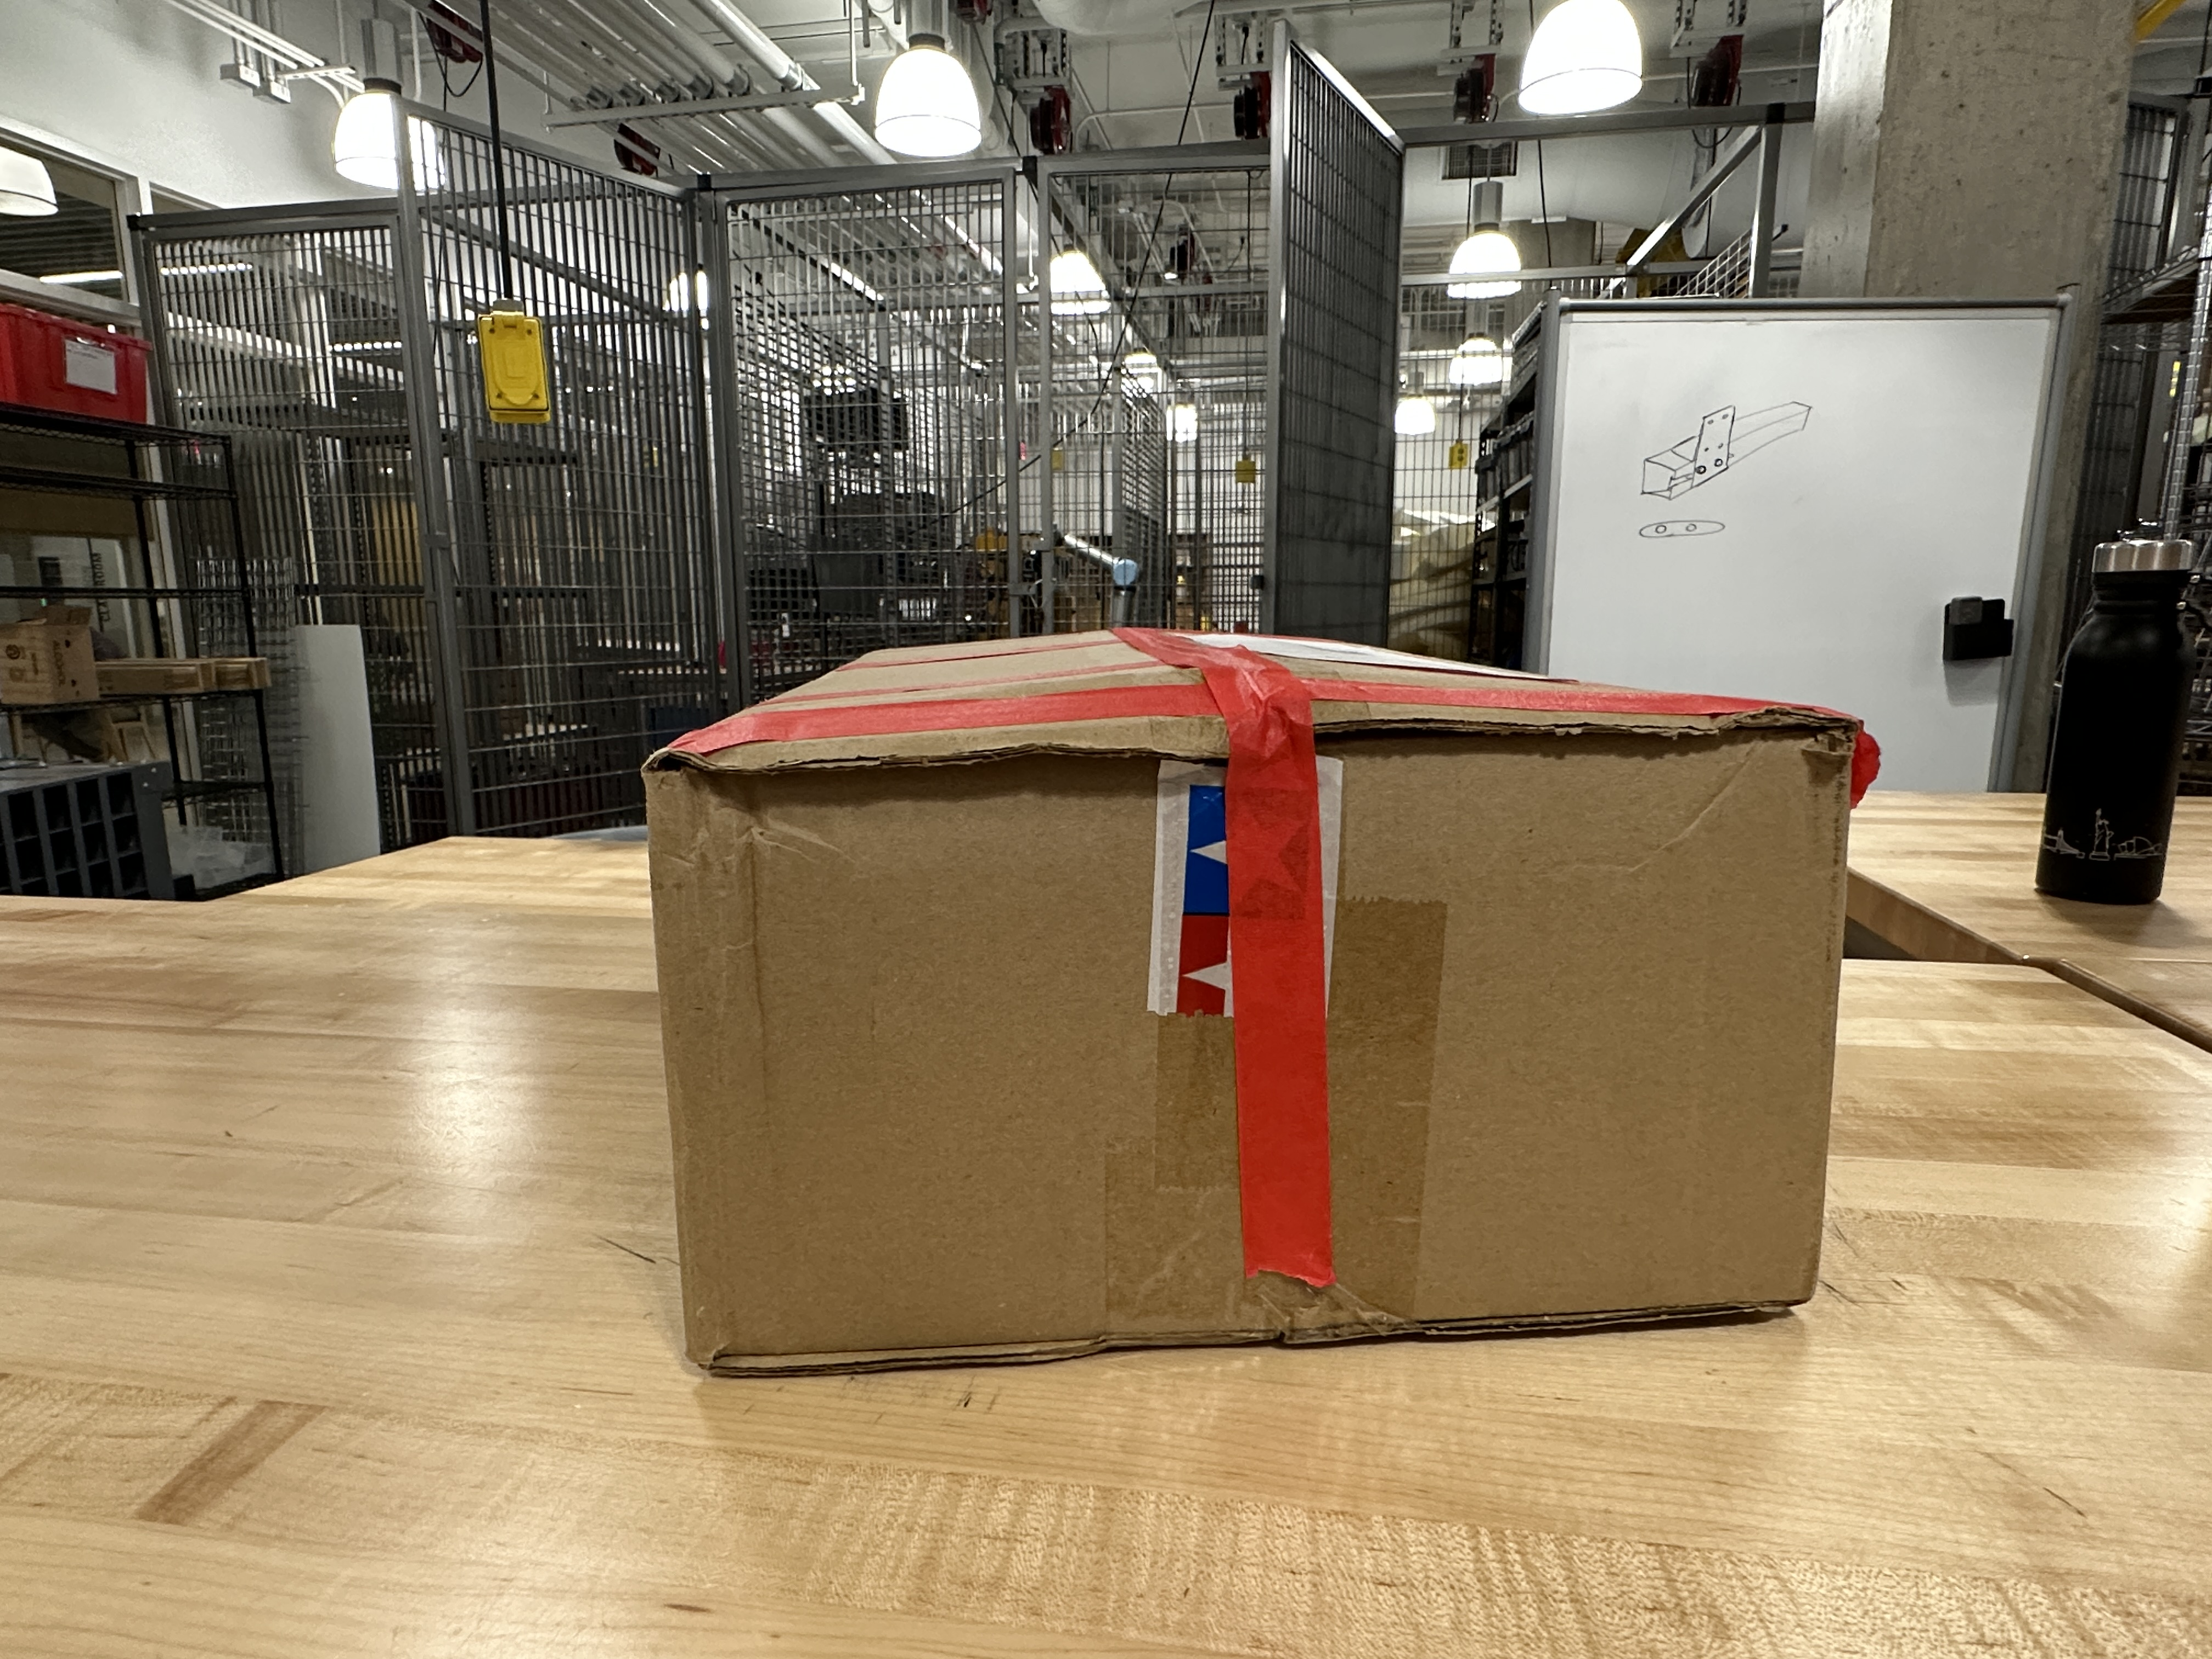Box_Obstacle: (637, 622, 1895, 1398)
